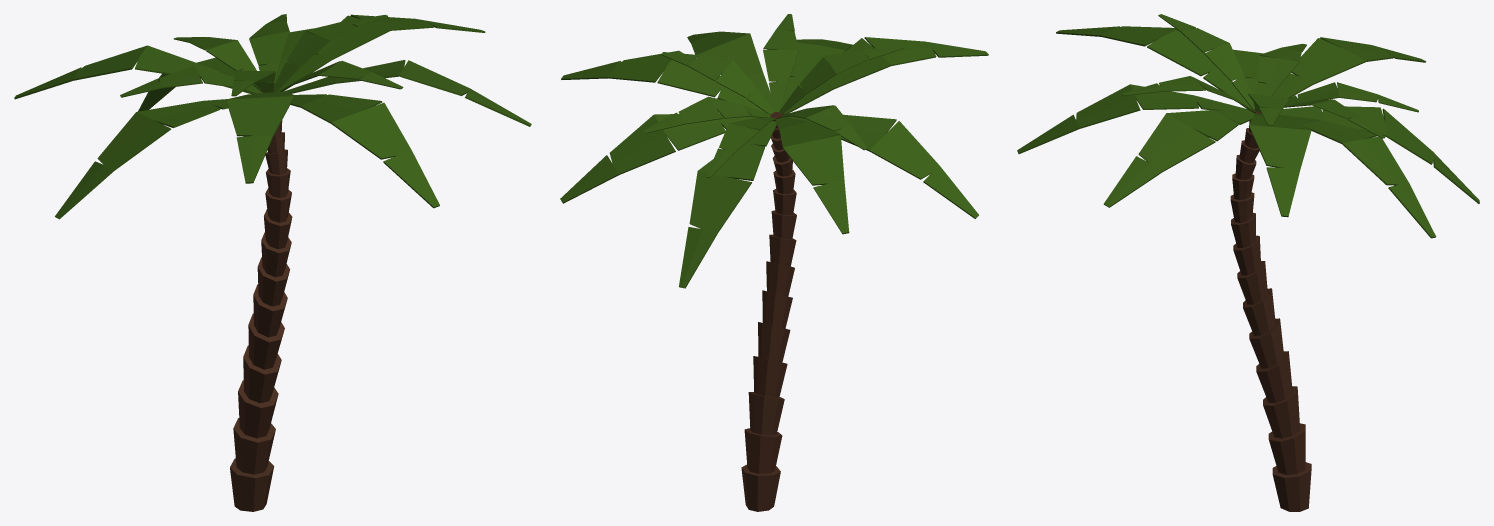
The model's file is paml2.fbx.
3 views of the same model, side by side, from view 1: azimuth 30°, elevation 25°; view 2: azimuth 150°, elevation 25°; view 3: azimuth 270°, elevation 25° (orthographic). The views are drawn at different scales.
Parts seen in each view (by area): view 1: Palm_2_Base, Palm_2_Sheet_7, Palm_2_Sheet_1, Palm_2_Sheet_8, Palm_2_Sheet_2, Palm_2_Sheet_5, Palm_2_Sheet_6, Palm_2_Sheet_13, Palm_2_Sheet_14, Palm_2_Sheet_10, Palm_2_Sheet_9, Palm_2_Sheet_12 (+2 smaller); view 2: Palm_2_Base, Palm_2_Sheet_3, Palm_2_Sheet_4, Palm_2_Sheet_2, Palm_2_Sheet_1, Palm_2_Sheet_5, Palm_2_Sheet_8, Palm_2_Sheet_6, Palm_2_Sheet_12, Palm_2_Sheet_13, Palm_2_Sheet_11, Palm_2_Sheet_14 (+3 smaller); view 3: Palm_2_Base, Palm_2_Sheet_6, Palm_2_Sheet_7, Palm_2_Sheet_4, Palm_2_Sheet_5, Palm_2_Sheet_8, Palm_2_Sheet_2, Palm_2_Sheet_3, Palm_2_Sheet_11, Palm_2_Sheet_10, Palm_2_Sheet_9, Palm_2_Sheet_12 (+3 smaller).
Boxes of the visible parts, x1,y1,x2,y2 form: Palm_2_Base: [230, 90, 292, 511]; Palm_2_Sheet_7: [290, 94, 439, 208]; Palm_2_Sheet_1: [55, 99, 228, 219]; Palm_2_Sheet_8: [226, 91, 294, 183]; Palm_2_Sheet_2: [14, 45, 259, 99]; Palm_2_Sheet_5: [278, 14, 485, 91]; Palm_2_Sheet_6: [284, 60, 531, 126]; Palm_2_Sheet_13: [274, 14, 387, 91]; Palm_2_Sheet_14: [249, 14, 289, 84]; Palm_2_Sheet_10: [120, 65, 262, 97]; Palm_2_Sheet_9: [173, 37, 260, 90]; Palm_2_Sheet_12: [279, 60, 403, 91]; Palm_2_Base: [741, 112, 796, 511]; Palm_2_Sheet_3: [679, 121, 776, 288]; Palm_2_Sheet_4: [560, 113, 759, 203]; Palm_2_Sheet_2: [775, 117, 849, 234]; Palm_2_Sheet_1: [786, 114, 978, 218]; Palm_2_Sheet_5: [561, 50, 766, 112]; Palm_2_Sheet_8: [784, 37, 988, 114]; Palm_2_Sheet_6: [687, 31, 773, 110]; Palm_2_Sheet_12: [763, 14, 798, 111]; Palm_2_Sheet_13: [661, 52, 774, 114]; Palm_2_Sheet_11: [779, 46, 904, 114]; Palm_2_Sheet_14: [644, 96, 770, 133]; Palm_2_Base: [1230, 109, 1311, 511]; Palm_2_Sheet_6: [1103, 110, 1254, 207]; Palm_2_Sheet_7: [1017, 84, 1249, 153]; Palm_2_Sheet_4: [1279, 114, 1436, 238]; Palm_2_Sheet_5: [1248, 113, 1311, 217]; Palm_2_Sheet_8: [1056, 26, 1251, 111]; Palm_2_Sheet_2: [1272, 37, 1426, 98]; Palm_2_Sheet_3: [1279, 106, 1479, 203]; Palm_2_Sheet_11: [1158, 14, 1254, 109]; Palm_2_Sheet_10: [1257, 43, 1306, 96]; Palm_2_Sheet_9: [1285, 82, 1418, 112]; Palm_2_Sheet_12: [1121, 76, 1255, 111].
Bounding box in the file's own units: 436 × 452 × 420.
